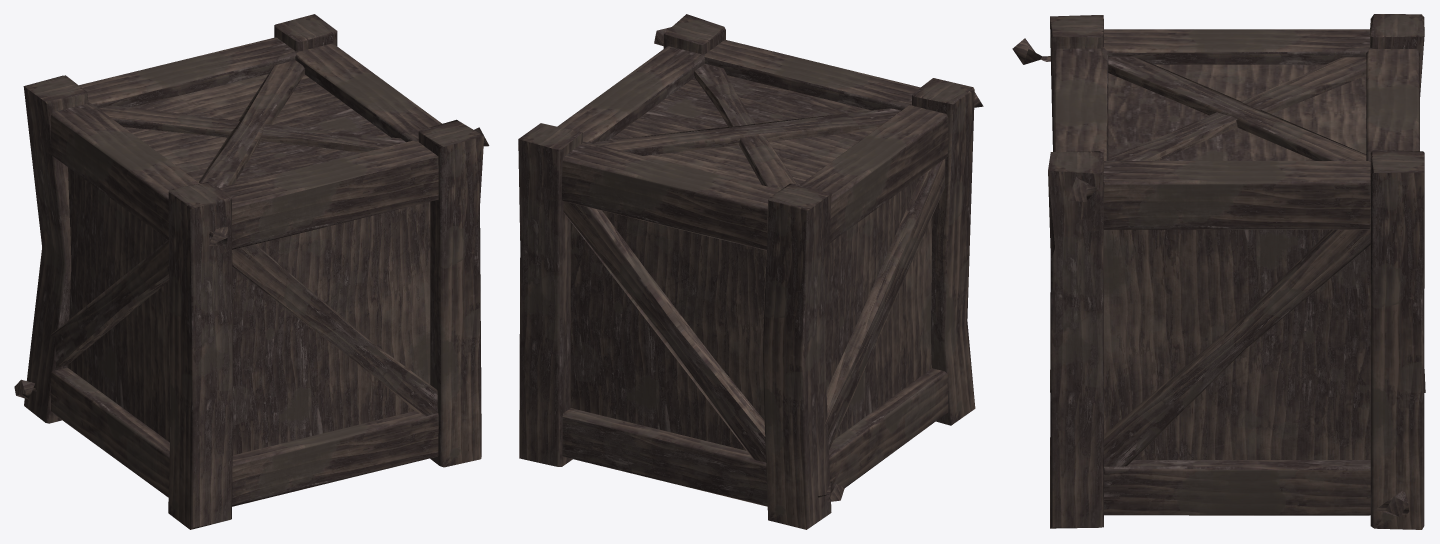
File: kutu_tam_texture.fbx
3 views of the same model, side by side, from view 1: azimuth 30°, elevation 25°; view 2: azimuth 150°, elevation 25°; view 3: azimuth 270°, elevation 25° (orthographic). The views are drawn at different scales.
Visible parts, largest first — view 1: SM_LargeCrate01_LOD1; view 2: SM_LargeCrate01_LOD1; view 3: SM_LargeCrate01_LOD1.
Boxes of the visible parts, left/top/right/bottom form: SM_LargeCrate01_LOD1: left=14, top=14, right=489, bottom=529; SM_LargeCrate01_LOD1: left=518, top=14, right=983, bottom=529; SM_LargeCrate01_LOD1: left=1012, top=14, right=1425, bottom=529.
Bounding box in the file's own units: 113 × 107 × 111.
1 material, 1 textured.
